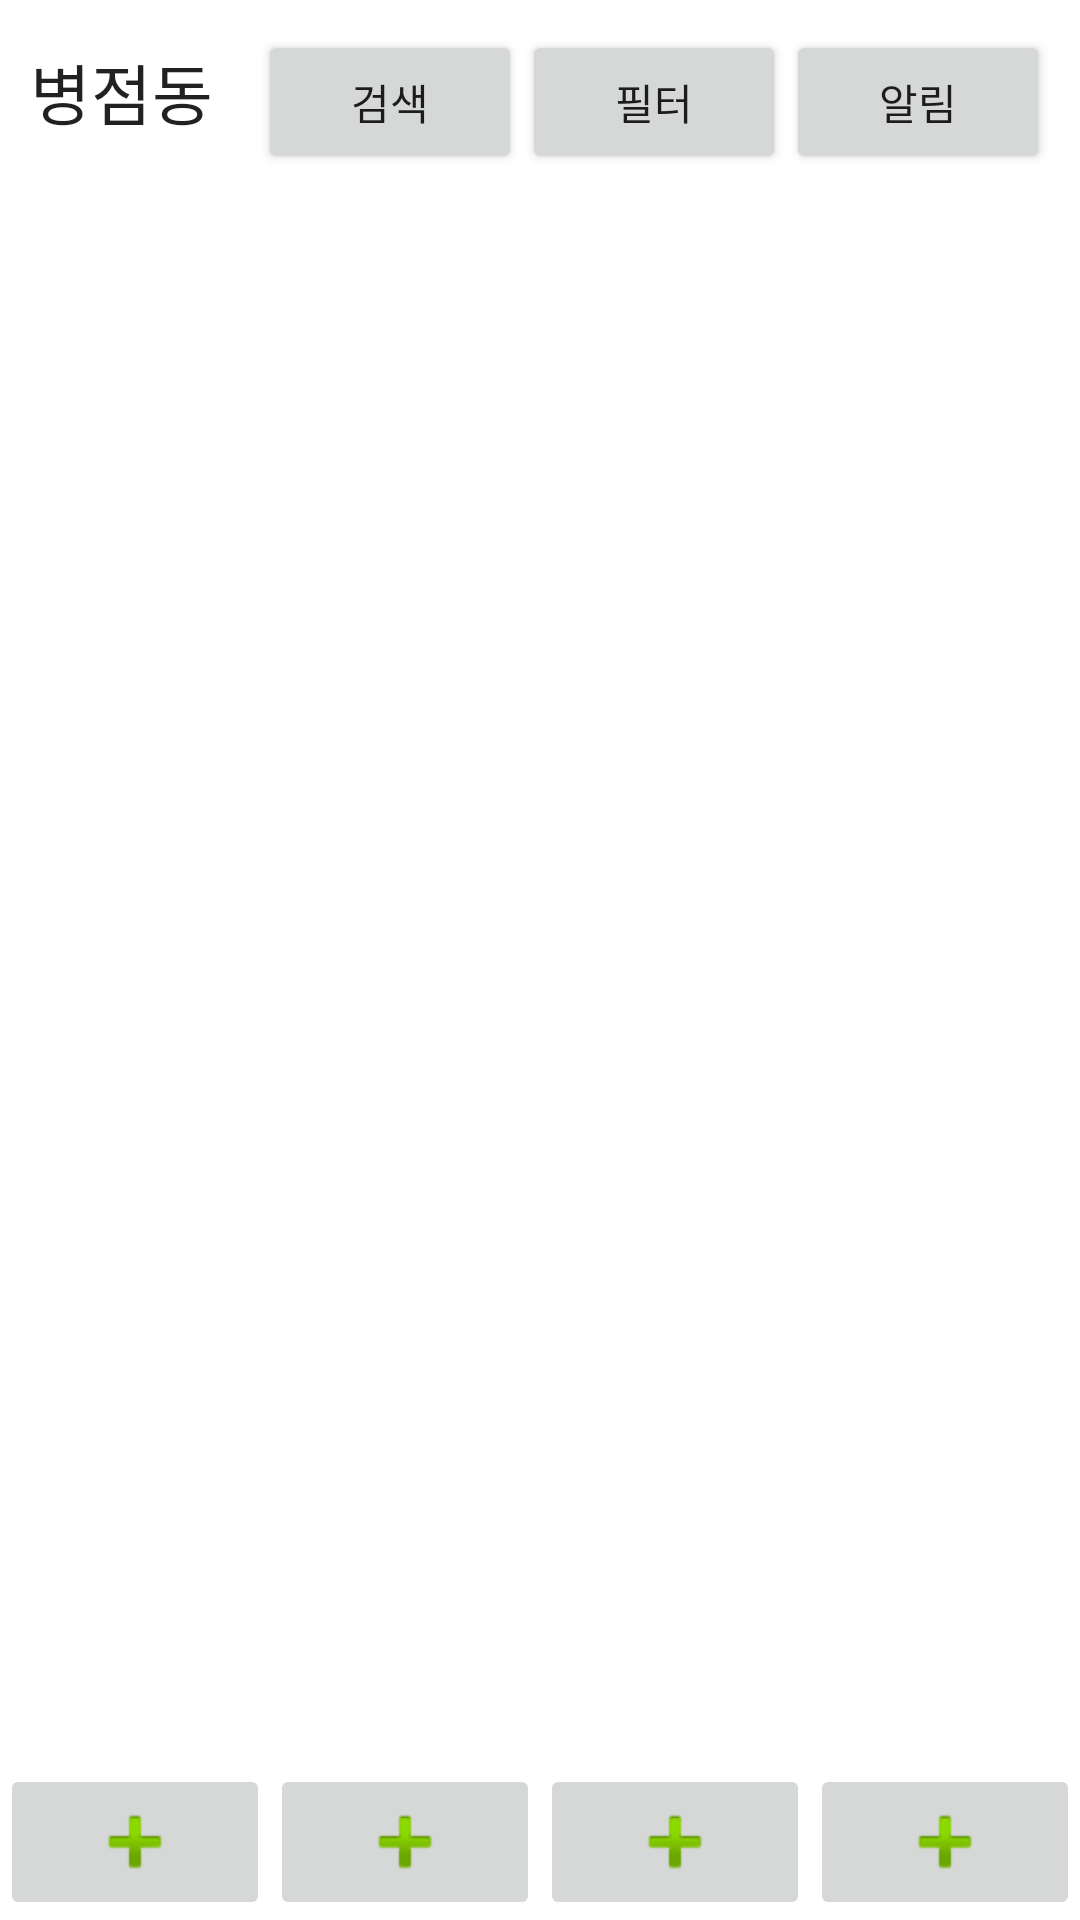

Icons on this 1080×1920 Android screen, each with the point to tap as (x=x, y=y):
add: (x=135, y=1842), (x=405, y=1842), (x=675, y=1842), (x=945, y=1842)
